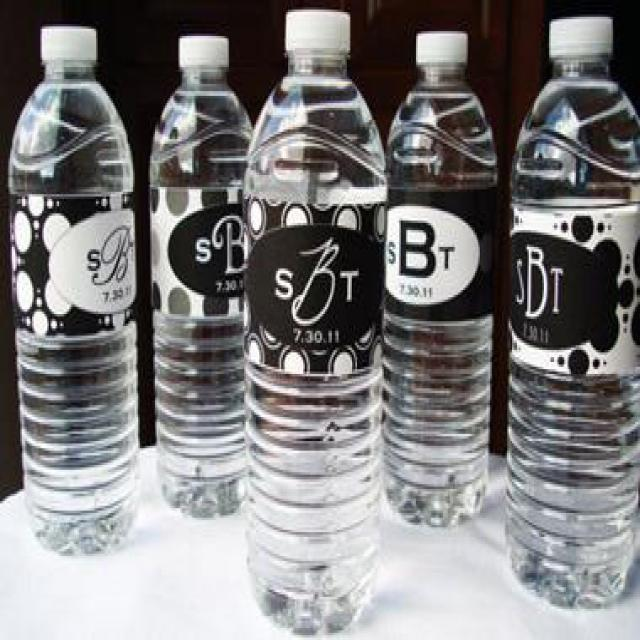bottom: (499, 513, 640, 620), (238, 561, 385, 640), (377, 446, 492, 538), (23, 486, 155, 562), (148, 456, 248, 526)
cap: (540, 13, 628, 84), (279, 2, 350, 67), (170, 33, 236, 95), (34, 26, 102, 85), (413, 31, 472, 84)
